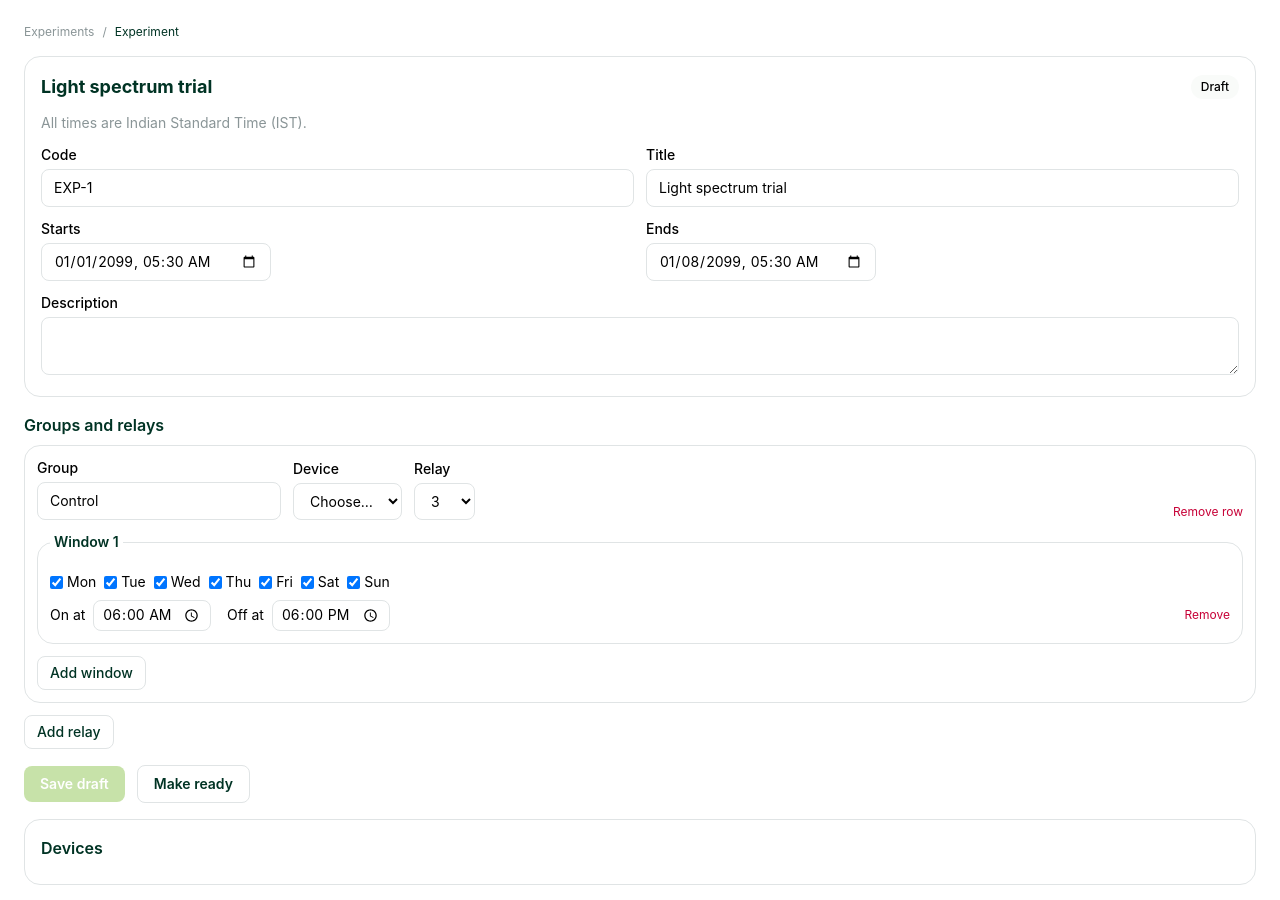
Scenario: ExperimentPage lifecycle › DRAFT: Make ready asks for confirmation and sends one request
This screenshot has width=1280, height=900.
Step 1. Click the button "Make ready" → coordinates (193, 784), box x1=137 y1=765 x2=250 y2=803
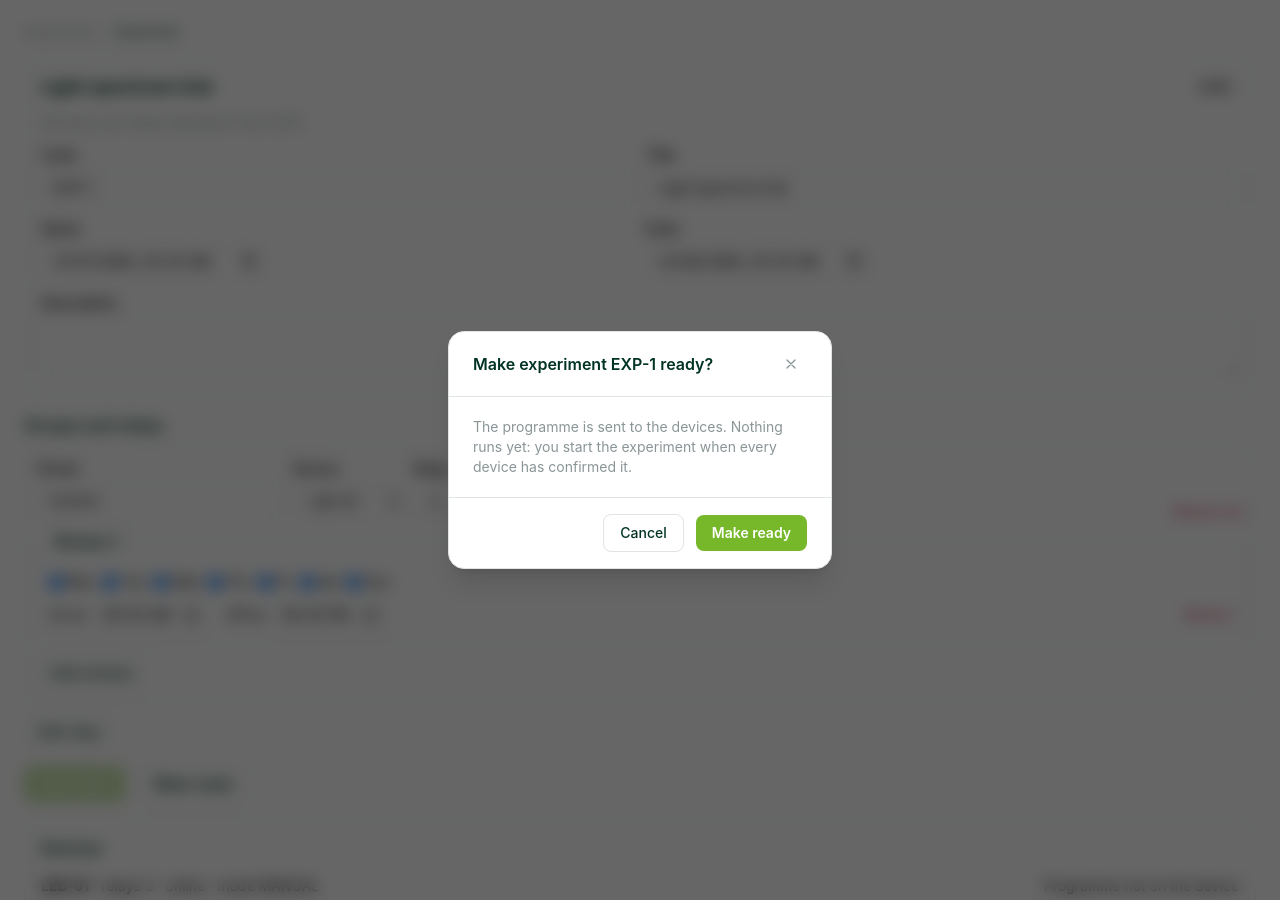
Now the heading "Make experiment EXP-1 ready?" is shown, box x1=473 y1=352 x2=713 y2=376
Step 2. Click the button "Cancel" → coordinates (644, 533), box x1=603 y1=514 x2=684 y2=552
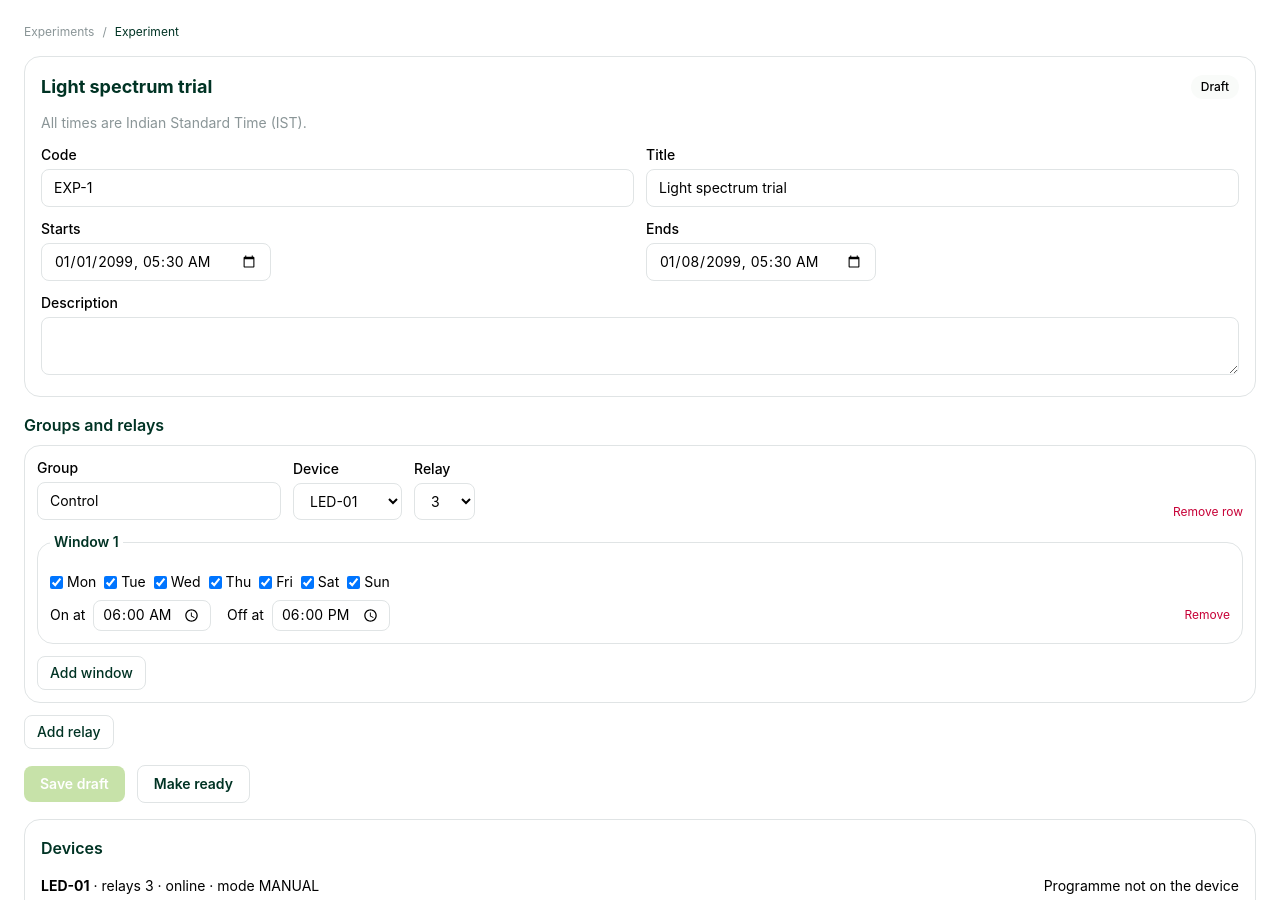
Step 3. Click the button "Make ready" → coordinates (193, 784), box x1=137 y1=765 x2=250 y2=803
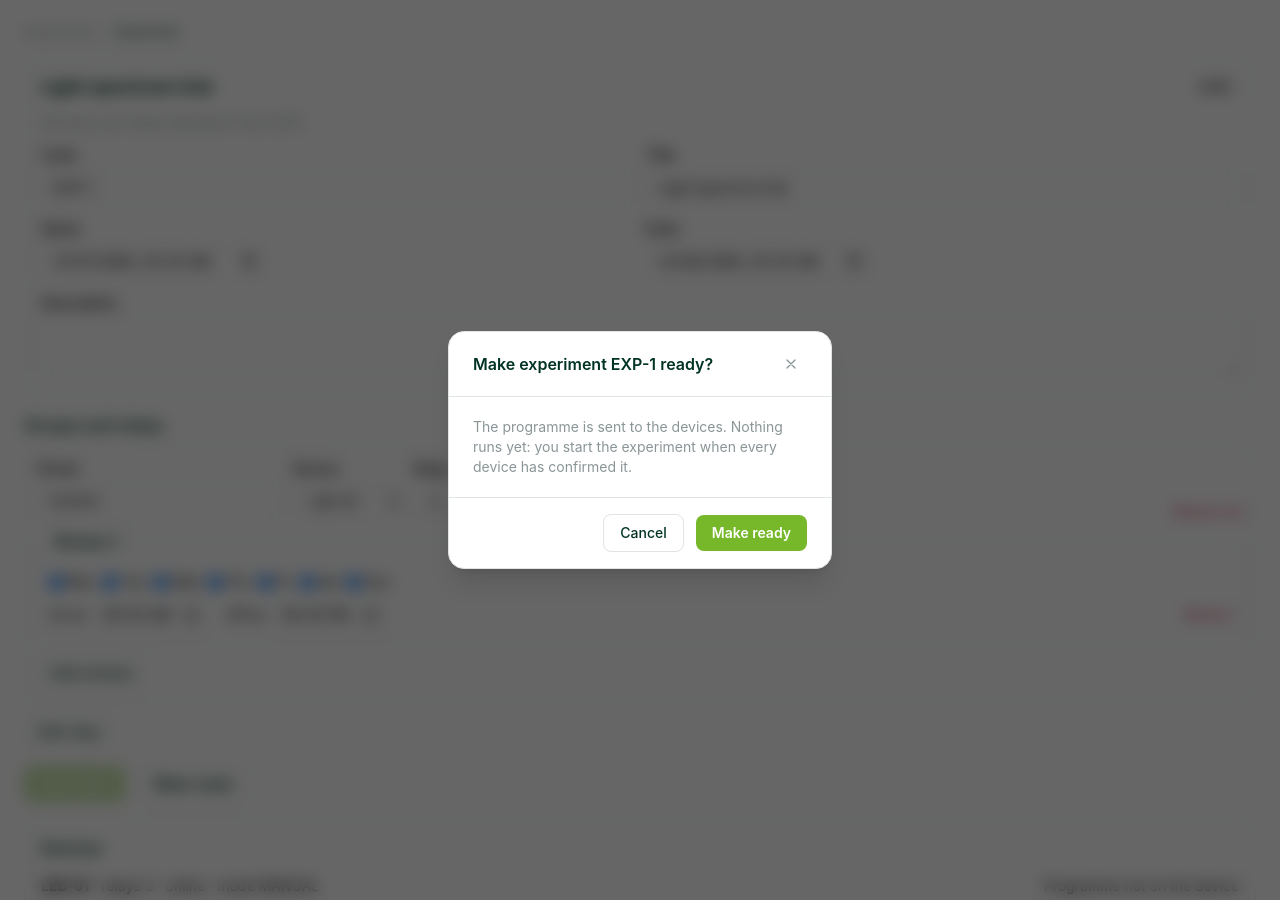
Step 4. Click the button "Make ready" → coordinates (751, 533), box x1=696 y1=515 x2=807 y2=551
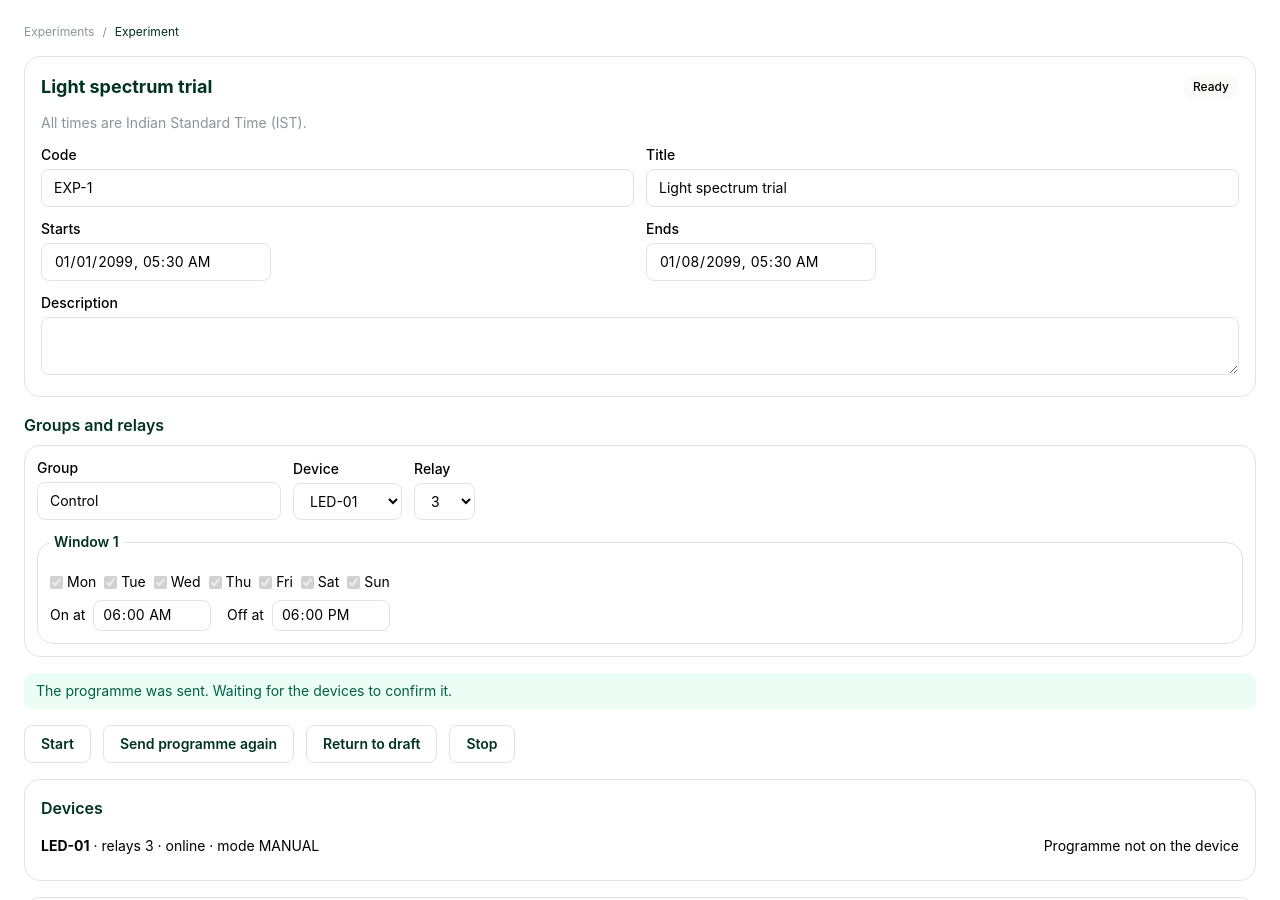
Now the button "Start" is shown, box x1=24 y1=725 x2=91 y2=763
Now the text "The programme was sent. Waiting for the devices to confirm it." is shown, box x1=24 y1=673 x2=1256 y2=709
Now the text with test id "experiment-status" reads "Ready", box x1=1193 y1=79 x2=1229 y2=94
